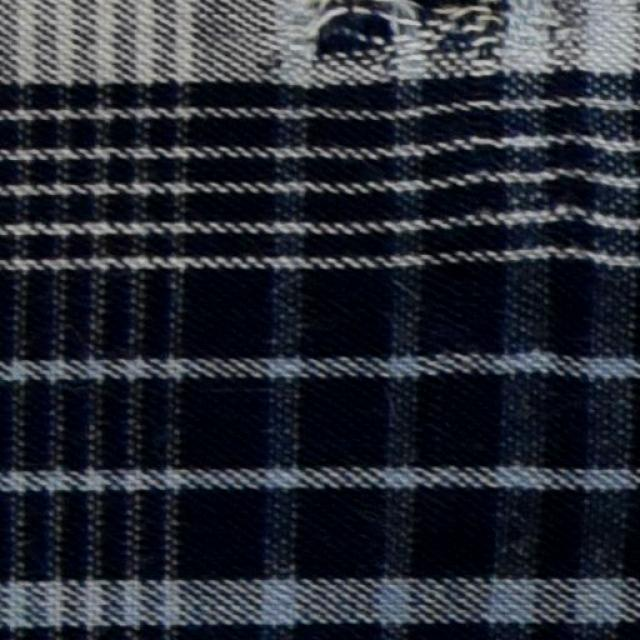Snag: (280, 1, 542, 90)
